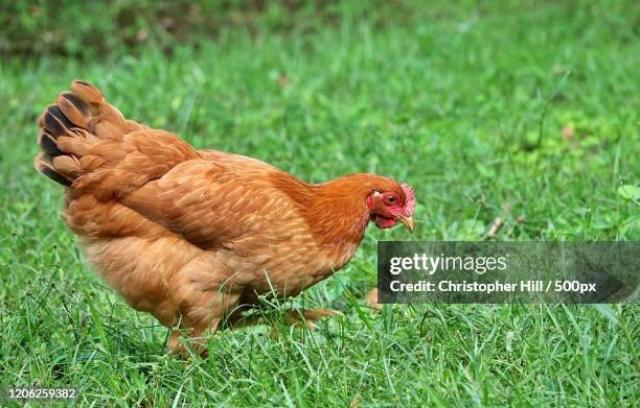Chicken: (36, 82, 415, 351)
